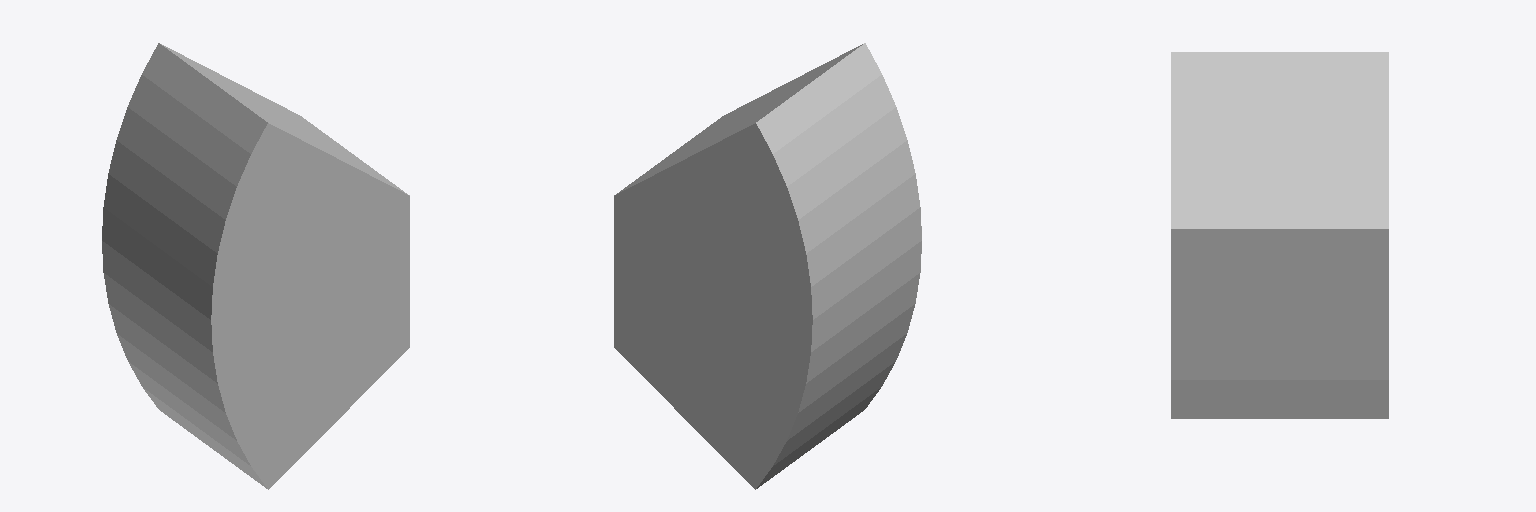
Rendered from round_pentagon_hole_0.obj.
3 views of the same model, side by side, from view 1: azimuth 30°, elevation 25°; view 2: azimuth 150°, elevation 25°; view 3: azimuth 270°, elevation 25° (orthographic).
Visible parts, largest first — view 1: Body116; view 2: Body116; view 3: Body116.
Boxes of the visible parts, box(x1,y1,x2,y2) form: Body116: box(102, 43, 409, 489); Body116: box(614, 43, 921, 489); Body116: box(1171, 52, 1388, 418).
Bounding box in the file's own units: 0.042 × 0.0741 × 0.04.